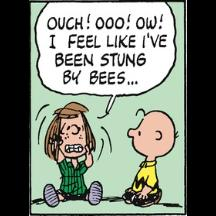charlie: (122, 108, 180, 208)
